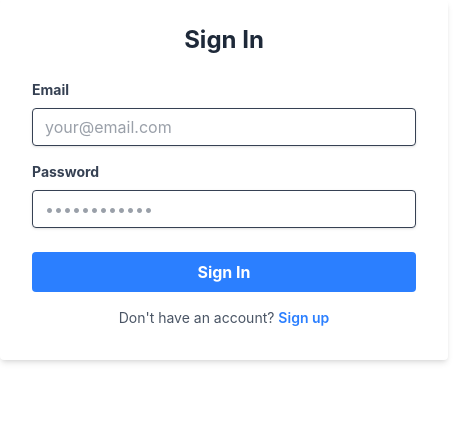
Scenario: LoginForm › validates email format
This screenshot has width=466, height=447.
Type "test@invalid" into the field labelled "Email".
click(224, 127); type("test@invalid")  # box top-left (32, 108), bottom-right (416, 146)
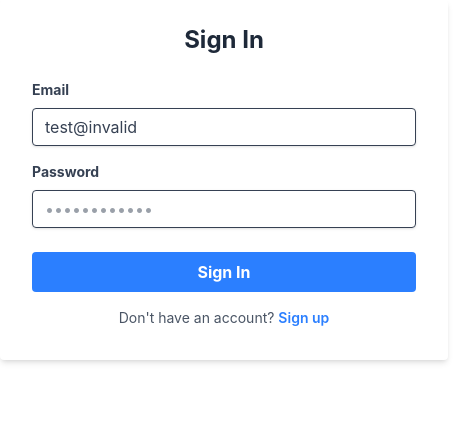
Type "password123" into the password field labelled "Password".
click(224, 209); type("password123")  # box top-left (32, 190), bottom-right (416, 228)
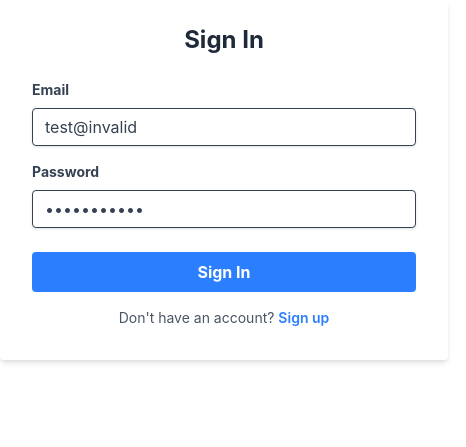
Click the button "Sign In".
click(224, 272)  # box top-left (32, 252), bottom-right (416, 292)
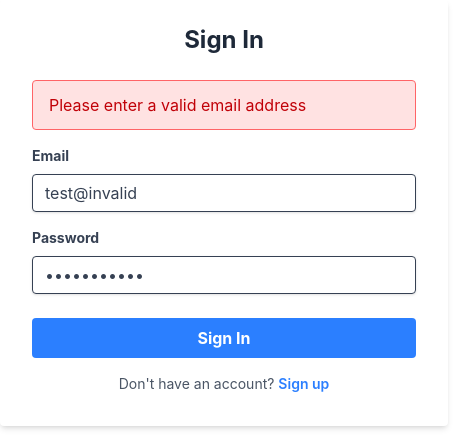
Expected: the text "Please enter a valid email address" is shown, top-left (32, 80), bottom-right (416, 130)
